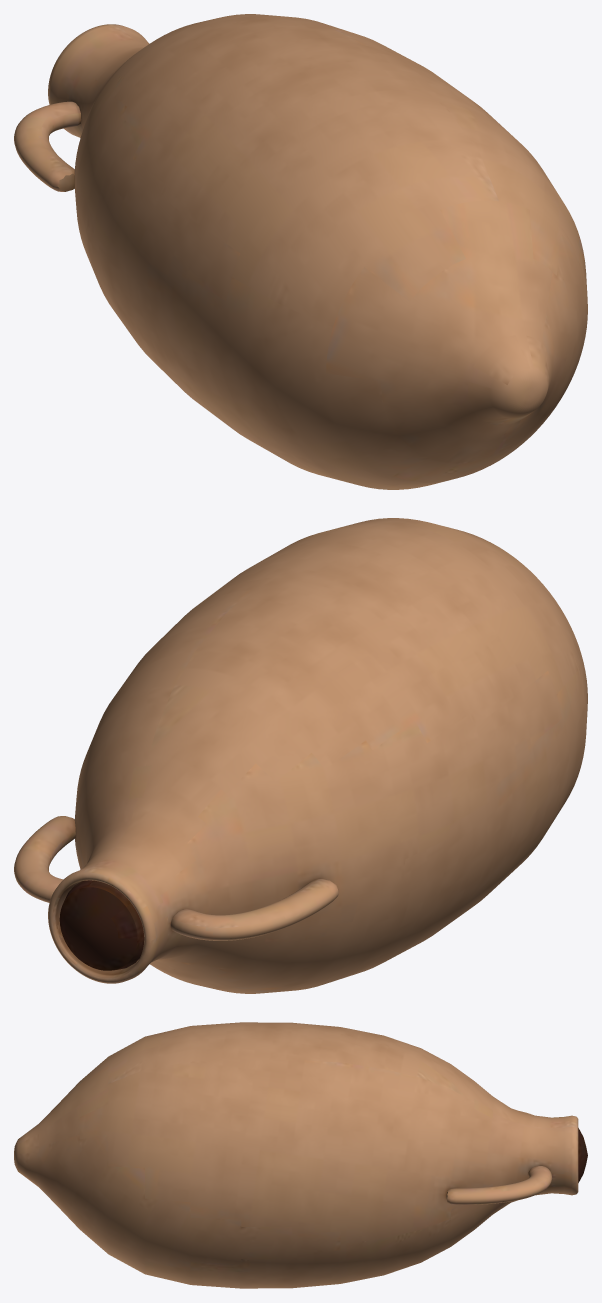
File: amphora_wine.glb
3 views of the same model, one above another, from view 1: azimuth 30°, elevation 25°; view 2: azimuth 150°, elevation 25°; view 3: azimuth 270°, elevation 25° (orthographic). The views are drawn at different scales.
Parts seen in each view (by area): view 1: amphora_wine; view 2: amphora_wine; view 3: amphora_wine.
Part boxes in pixels (x1,y1,x2,y2): amphora_wine: [14, 14, 587, 489]; amphora_wine: [14, 518, 587, 993]; amphora_wine: [14, 1022, 587, 1288].
Size of the model in its own units: 0.2611 by 0.2611 by 0.5628.
Materials: 1 (1 with a texture image).
